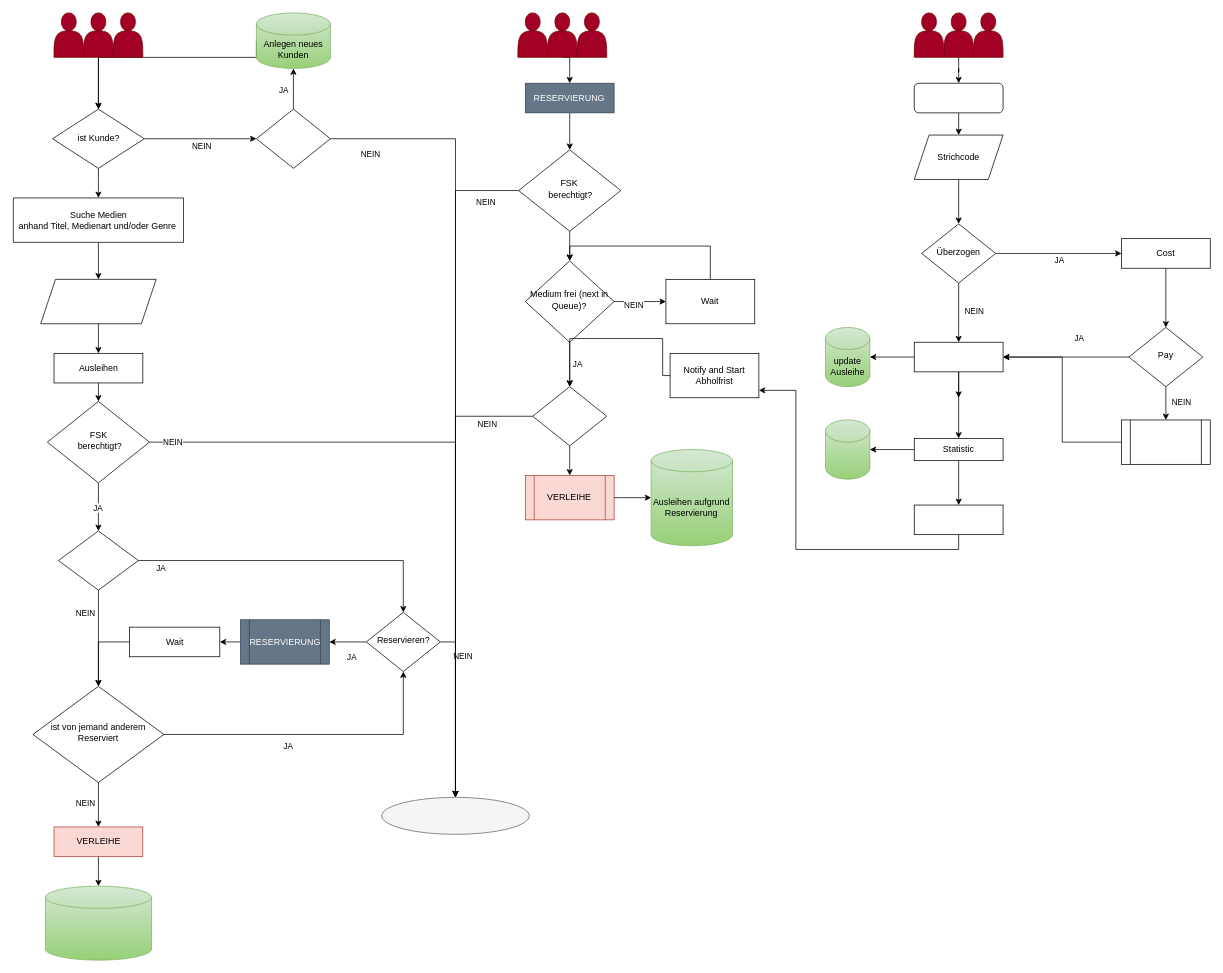
Some shapes in this 1223 by 973 pixel diagram are drawn without their labels. Here are the shapes that lost their labels. From the top down, the centre of each, then its label:
At point (958, 98): "Rückgabe".
At point (293, 138): "Registrieren?".
At point (98, 301): "OUT: Liste von Medien".
At point (958, 357): "Zurückgegeben".
At point (569, 416): "innerhalb Abholfrist?".
At point (847, 449): "update Statistik".
At point (1165, 441): "GELD EINTREIBEN".
At point (958, 519): "Medium wieder Ausleih bereit".
At point (98, 560): "ist Ausgeliehen?".
At point (455, 815): "Ende".
At point (98, 922): "Vermerke: Ausleihzeitpunkt, geplantes Rückgabedatum".
